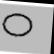no answer: (2, 12, 34, 42)
